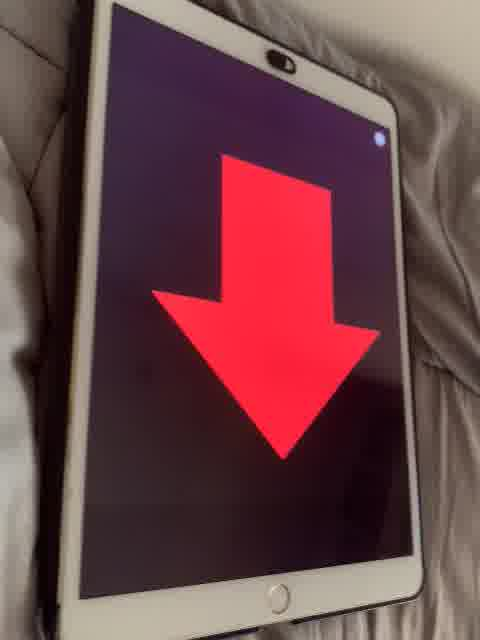down: (150, 144, 380, 467)
